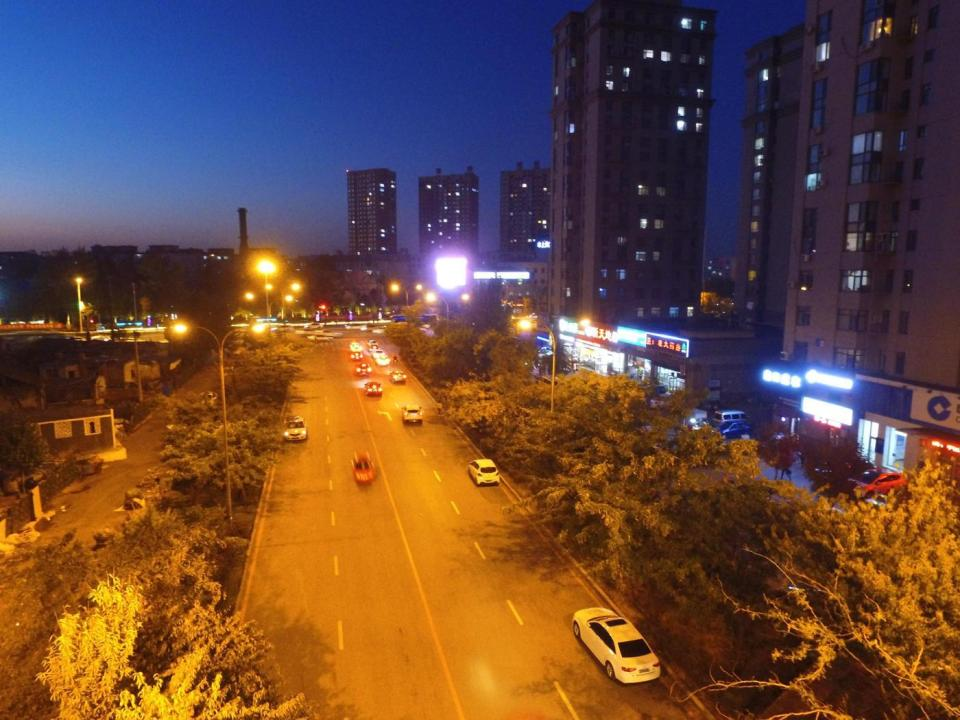car: (572, 606, 664, 686), (838, 465, 914, 500), (467, 455, 503, 487), (749, 429, 795, 454), (351, 452, 378, 488), (712, 420, 758, 438), (650, 392, 683, 413), (285, 412, 308, 442), (196, 384, 220, 411), (400, 404, 421, 426), (641, 383, 669, 399), (361, 381, 384, 399), (387, 368, 406, 384), (314, 328, 344, 338), (534, 350, 556, 362), (307, 333, 336, 342), (295, 326, 319, 336), (354, 362, 373, 374), (372, 324, 391, 335), (360, 323, 384, 331), (376, 355, 392, 367), (273, 324, 292, 334), (343, 322, 365, 330), (305, 322, 324, 330), (348, 352, 367, 360), (351, 340, 362, 353), (372, 348, 385, 359), (367, 338, 378, 348)
van: (710, 408, 756, 427), (540, 373, 565, 394), (535, 344, 555, 355)
